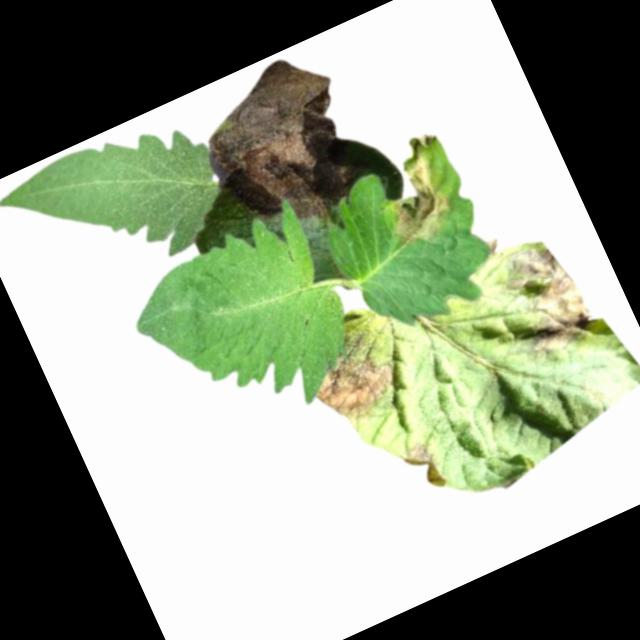Late_blight: (184, 43, 381, 250), (480, 228, 602, 367), (358, 125, 476, 256), (299, 334, 405, 436), (400, 437, 446, 494), (483, 235, 502, 255)
healthy: (114, 192, 375, 456), (1, 100, 241, 314)
